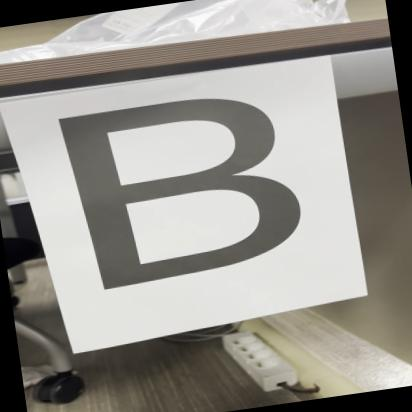seat: (37, 69, 337, 304)
